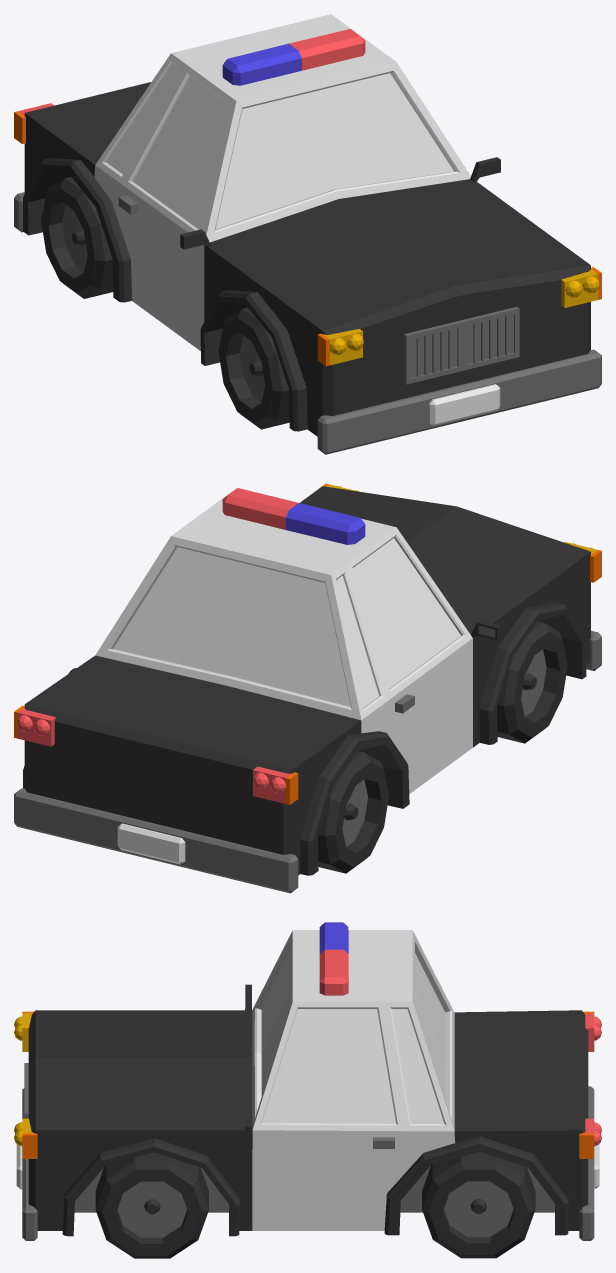
Rendered from Car H.fbx.
3 views of the same model, one above another, from view 1: azimuth 30°, elevation 25°; view 2: azimuth 150°, elevation 25°; view 3: azimuth 270°, elevation 25° (orthographic). The views are drawn at different scales.
Visible parts, largest first — view 1: Car H; view 2: Car H; view 3: Car H.
Part boxes in pixels (box(x1,y1,x2,y2)): Car H: box(14, 14, 601, 454); Car H: box(14, 483, 601, 893); Car H: box(14, 922, 601, 1258).
Bounding box in the file's own units: 167 × 135 × 292.
